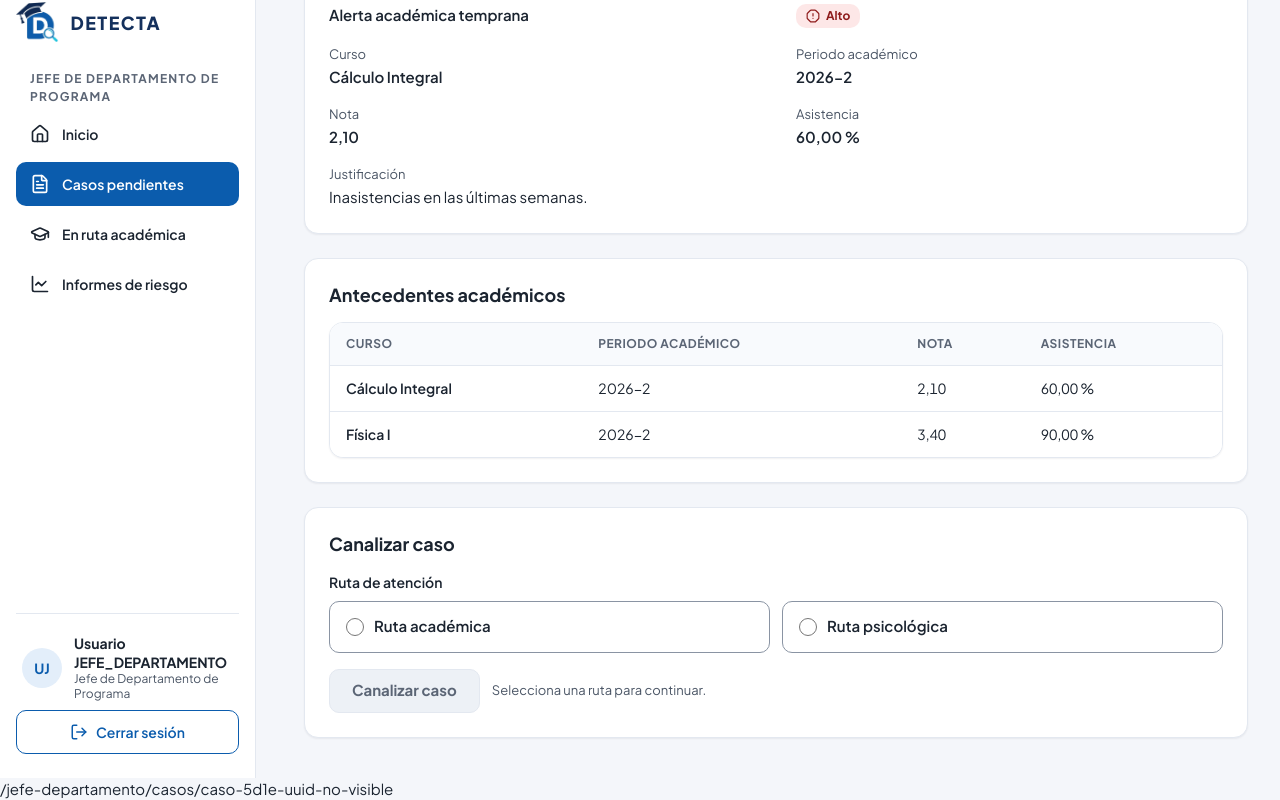
Test case: Canalización: conflictos y error de red (CUD04) › 409: «El caso ya fue canalizado»
This screenshot has width=1280, height=800.
(page scrolled)
Click the radio button labelled "Ruta académica" at (355, 627), box [346,618,364,636]
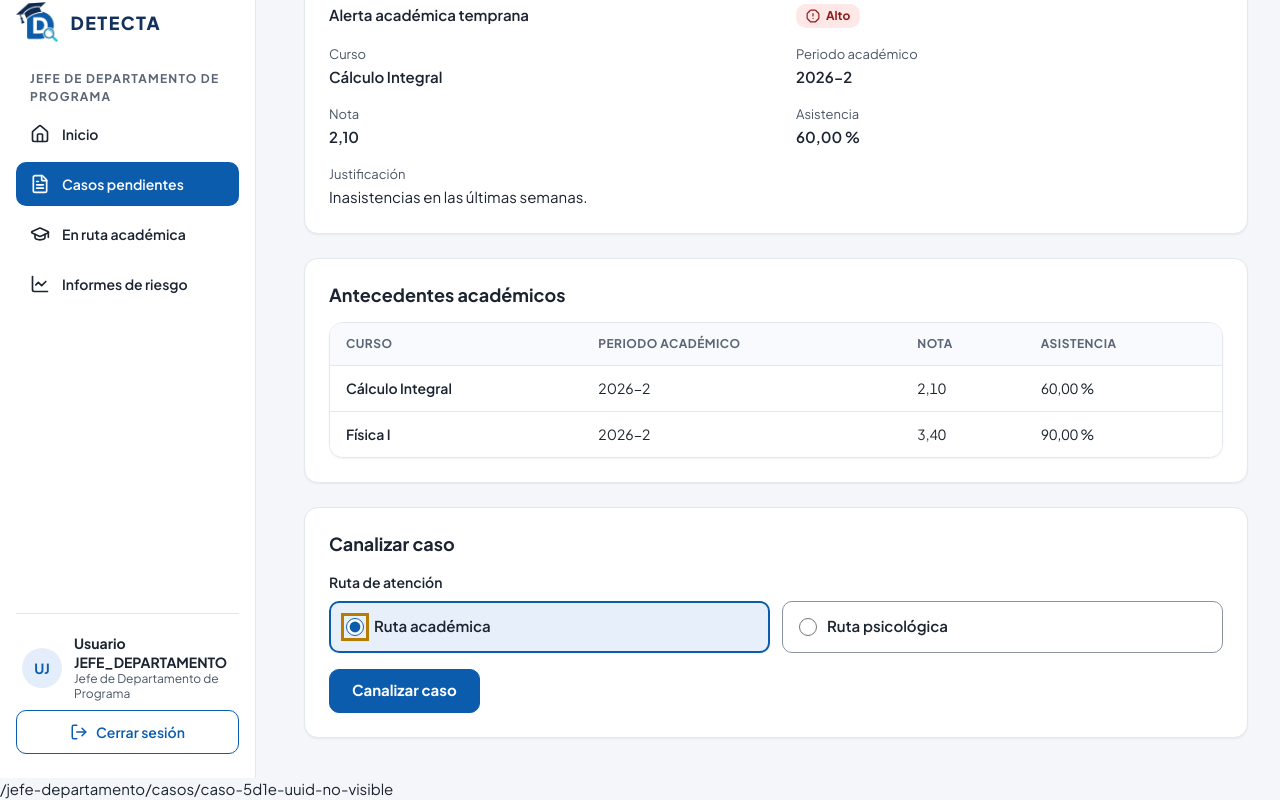
Click the button "Canalizar caso" at (404, 691), box [329,669,480,713]
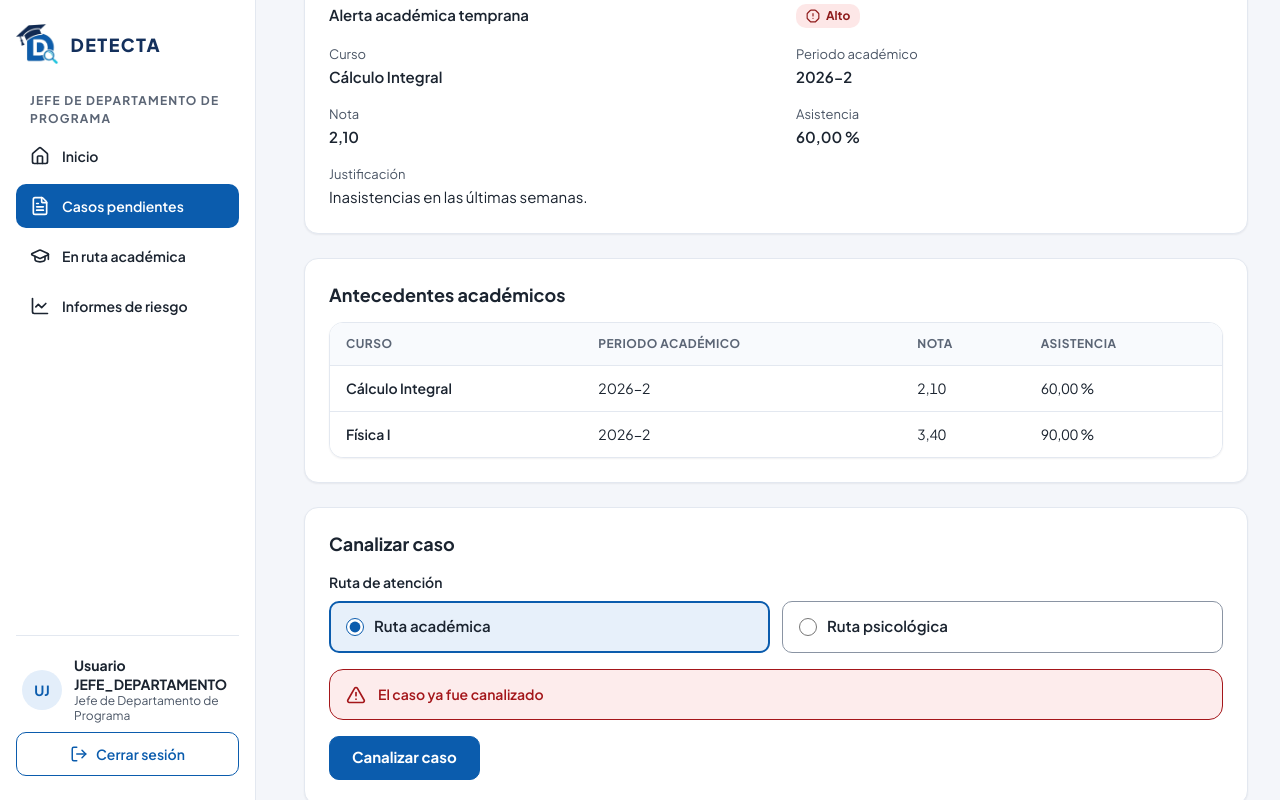
Expected: the message reads "El caso ya fue canalizado", [378,685,544,703]
